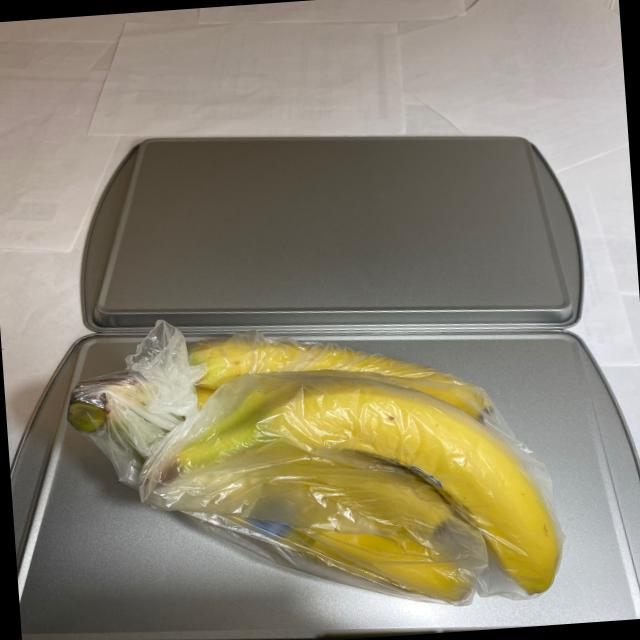banana: (54, 311, 568, 639)
